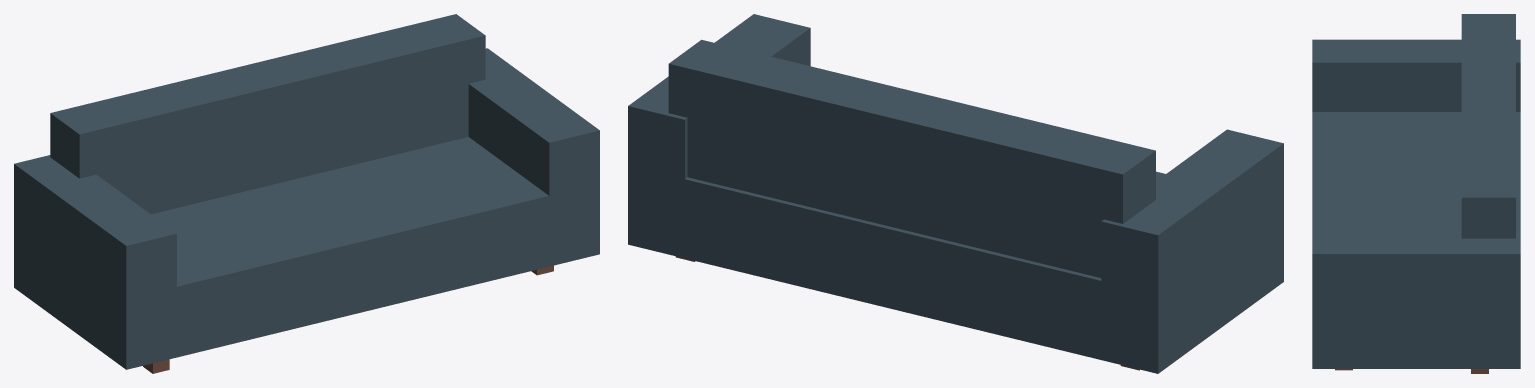
File: couch-by-francisco-hui-7ii-2eqMnAk.glb
The picture shows the model from 3 angles, left to right: view 1: azimuth 30°, elevation 25°; view 2: azimuth 150°, elevation 25°; view 3: azimuth 270°, elevation 25°; orthographic projection. The views are drawn at different scales.
Visible parts, largest first — view 1: Node; view 2: Node; view 3: Node.
Part boxes in pixels (x1,y1,x2,y2): Node: (14,14,599,373); Node: (628,14,1283,373); Node: (1312,14,1520,373).
Bounding box in the file's own units: 0.56 × 0.21 × 0.23.
